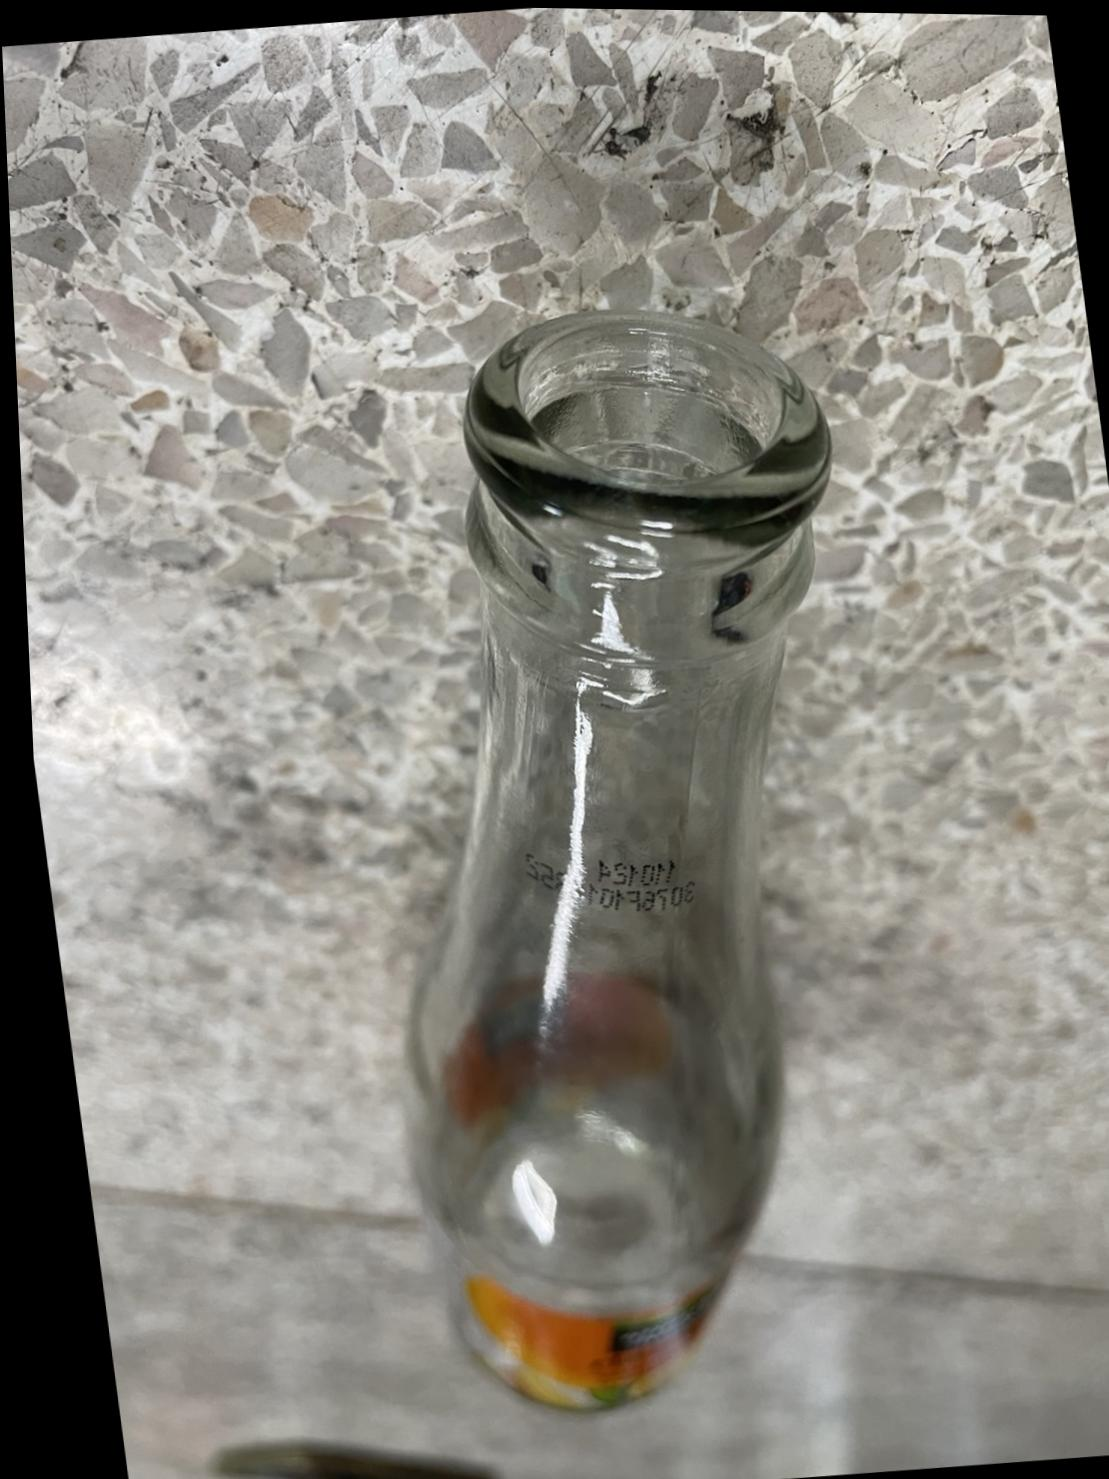glass: (410, 312, 829, 1409)
